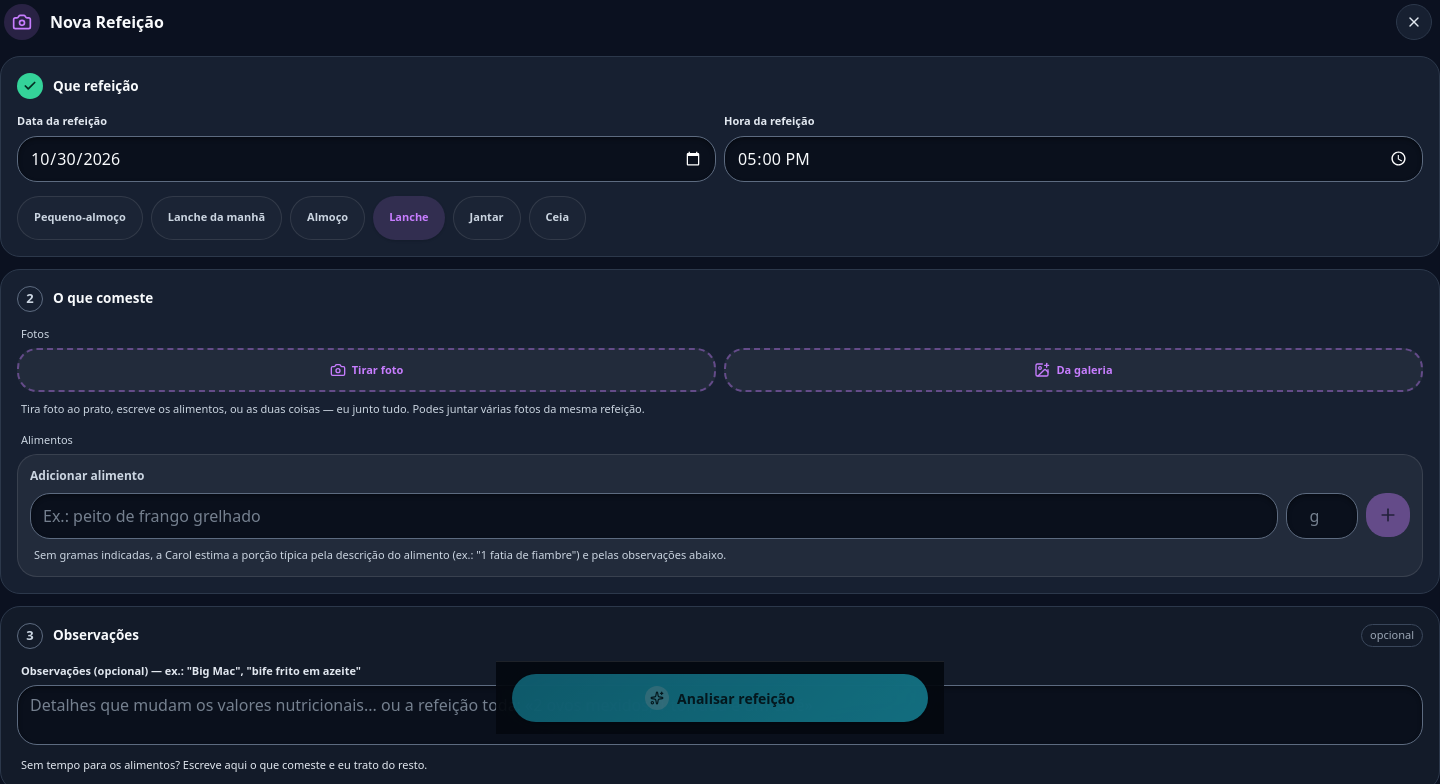
Scenario: MealRegistration — registo manual: adicionar é local, análise só no fim (analyze-meal) › mostra o erro da Edge Function e não fecha o formulário
Step 1. Type "Ovos" into the field with placeholder "Ex.: peito de frango grelhado" → (654, 516), box [30, 493, 1278, 539]
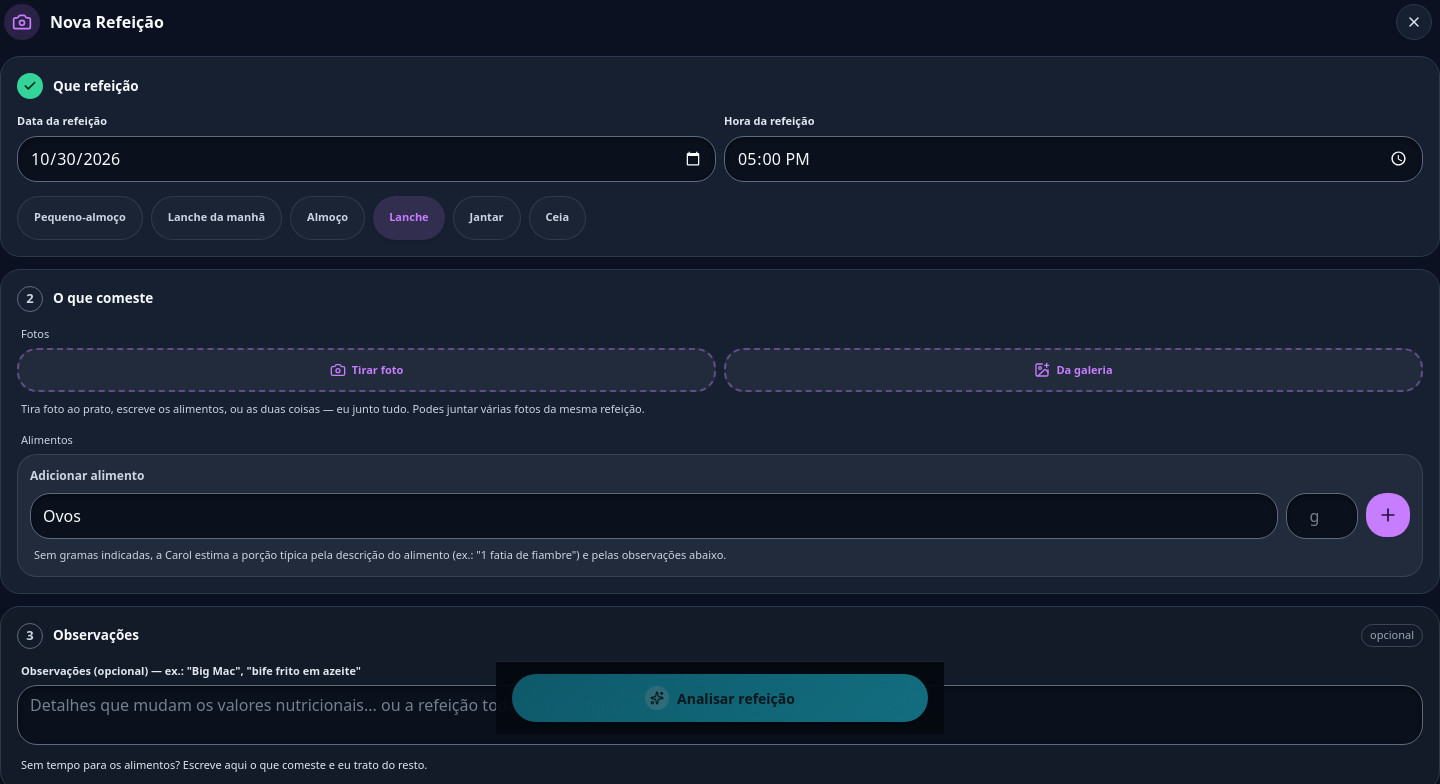
Step 2. Type "100" into the number field named "Gramas do alimento a adicionar (opcional)" → (1322, 516), box [1286, 493, 1358, 539]
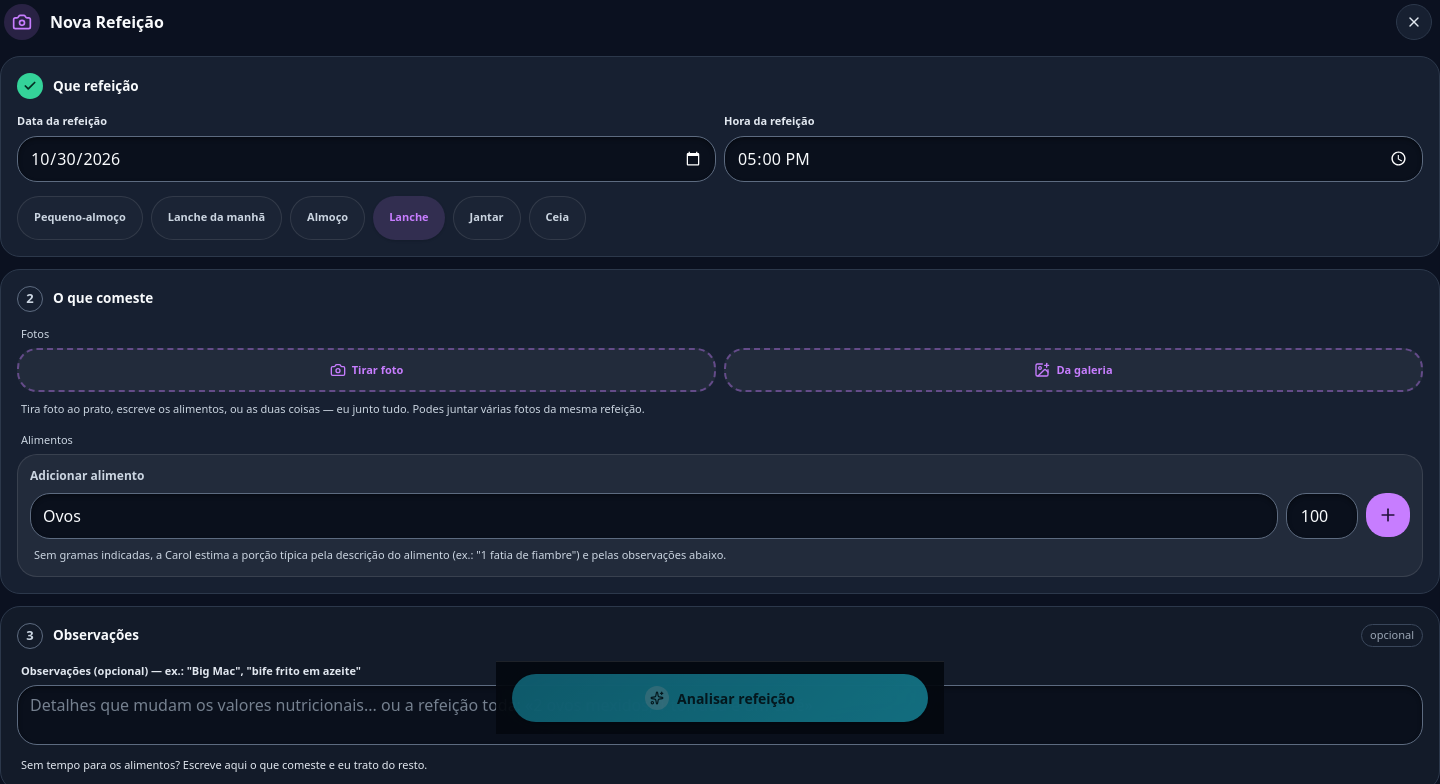
Step 3. Click the button named "Adicionar alimento" → (1388, 515), box [1366, 493, 1410, 537]
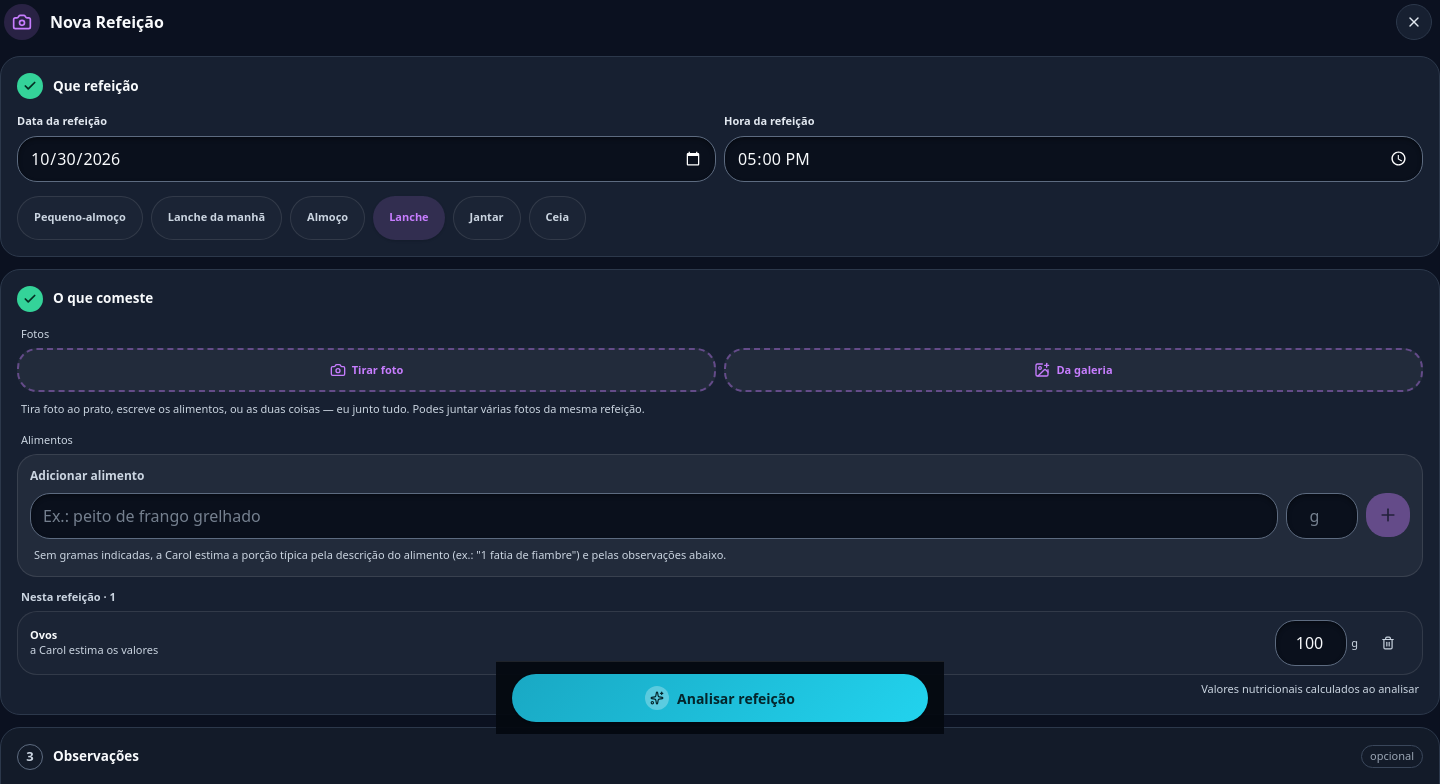
Step 4. Click the button "Analisar refeição" → (720, 698), box [512, 674, 928, 722]
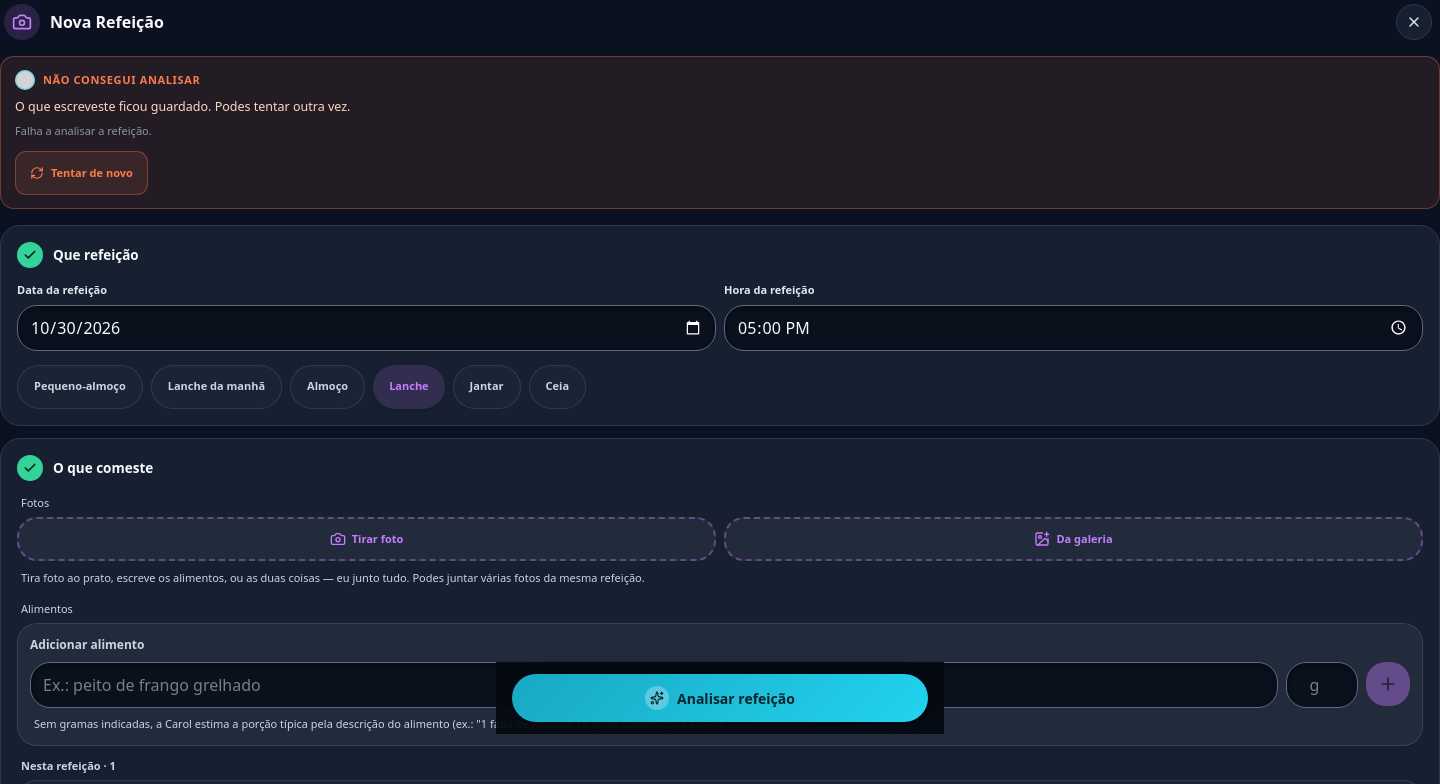
Check: the text "Falha a analisar a refeição." is shown, box [15, 123, 152, 138]
